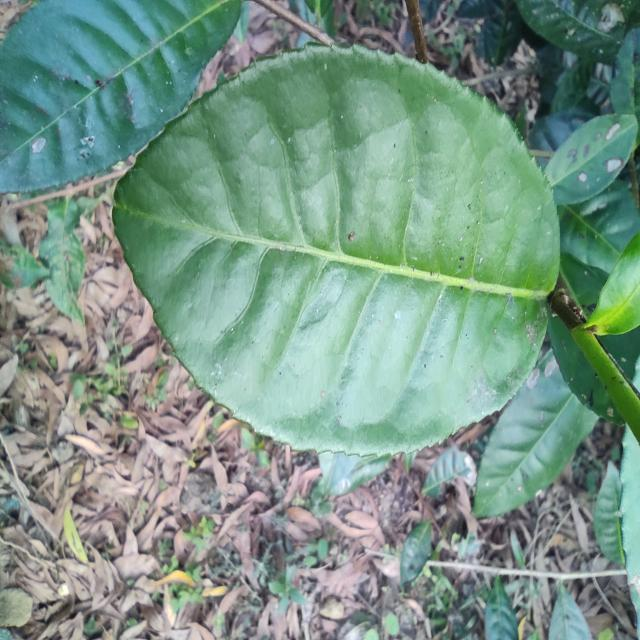Category D(7+ days, Not for Tea): (98, 42, 566, 465)
